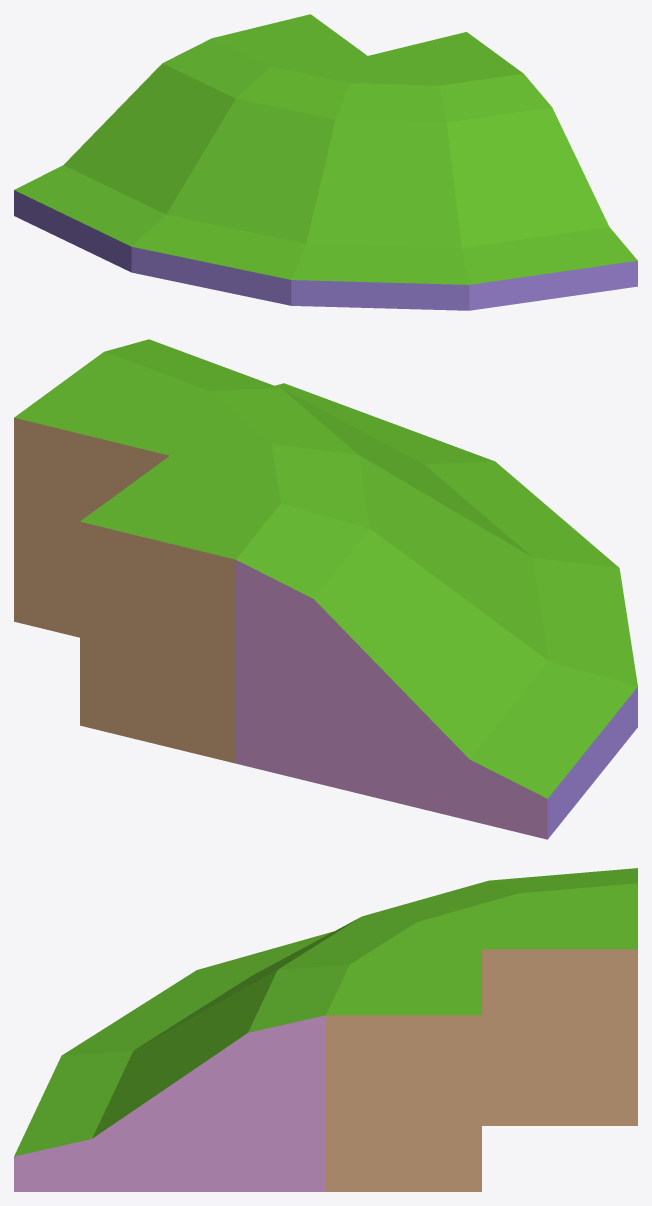
File: Grass_Hill_Sharp_Curve_Outer_4x4.glb
3 views of the same model, one above another, from view 1: azimuth 30°, elevation 25°; view 2: azimuth 150°, elevation 25°; view 3: azimuth 270°, elevation 25° (orthographic). The views are drawn at different scales.
Parts seen in each view (by area): view 1: Grass_Hill_Sharp_Curve_Outer_4x4; view 2: Grass_Hill_Sharp_Curve_Outer_4x4; view 3: Grass_Hill_Sharp_Curve_Outer_4x4.
Boxes of the visible parts, x1=… form: Grass_Hill_Sharp_Curve_Outer_4x4: x1=14, y1=14, x2=637, y2=310; Grass_Hill_Sharp_Curve_Outer_4x4: x1=14, y1=339, x2=637, y2=839; Grass_Hill_Sharp_Curve_Outer_4x4: x1=14, y1=868, x2=637, y2=1191.
Bounding box in the file's own units: 400 × 125 × 400.
